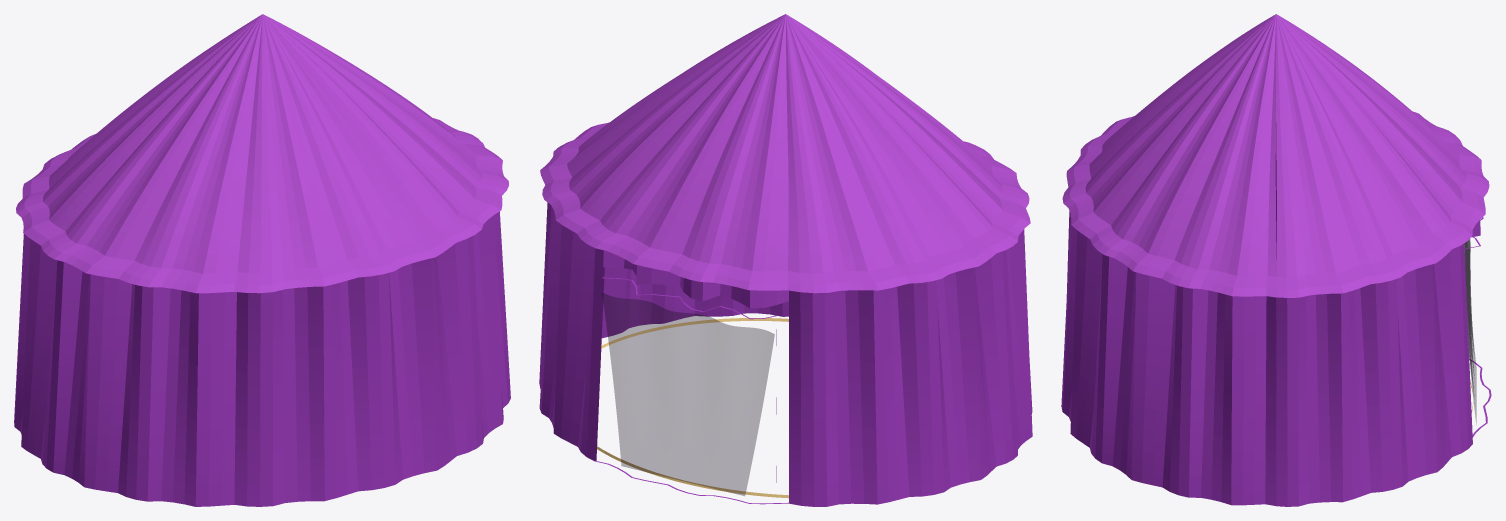
Rendered from tarot_tent.glb.
3 views of the same model, side by side, from view 1: azimuth 30°, elevation 25°; view 2: azimuth 150°, elevation 25°; view 3: azimuth 270°, elevation 25° (orthographic). The views are drawn at different scales.
Visible parts, largest first — view 1: tarot_tent; view 2: tarot_tent; view 3: tarot_tent.
Part boxes in pixels (left/top/right/bottom): tarot_tent: left=14, top=14, right=510, bottom=506; tarot_tent: left=539, top=14, right=1032, bottom=506; tarot_tent: left=1061, top=14, right=1491, bottom=506.
Size of the model in its own units: 7.63 by 6.5 by 6.55.
